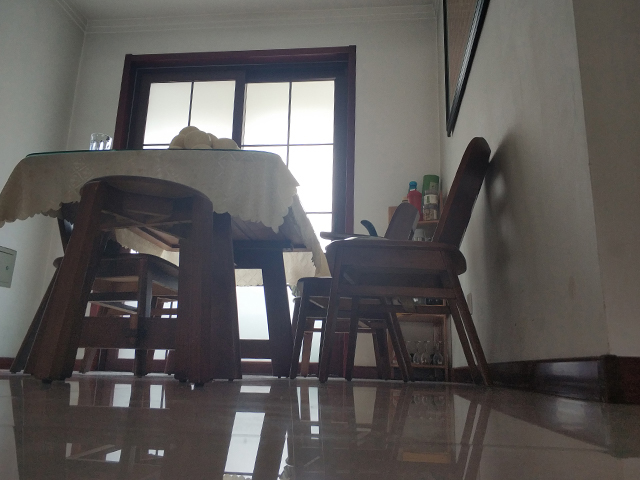stool: (317, 136, 494, 387), (22, 173, 218, 387)
table: (2, 147, 319, 381)
